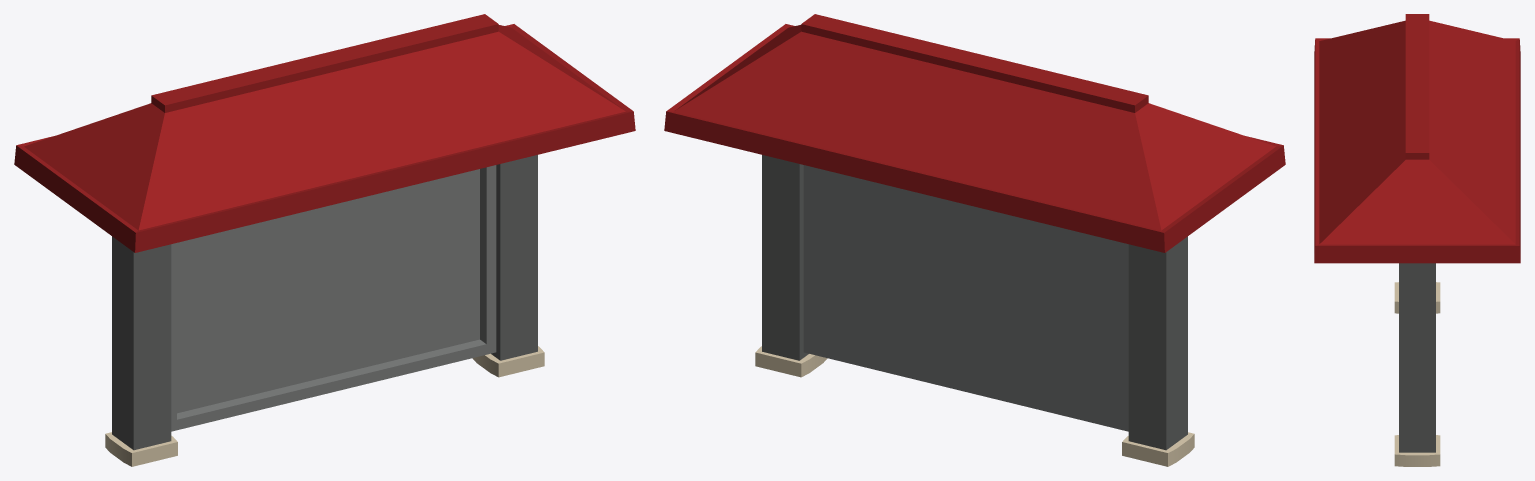
The model's file is WelcomeBoardStructure.FBX.
3 renders of one model, left to right at view 1: azimuth 30°, elevation 25°; view 2: azimuth 150°, elevation 25°; view 3: azimuth 270°, elevation 25°, orthographic. The views are drawn at different scales.
Parts seen in each view (by area): view 1: Box005, Roof; view 2: Box005, Roof; view 3: Roof, Box005.
Part boxes in pixels (x1=…): Box005: x1=105, y1=155, x2=544, y2=466; Roof: x1=14, y1=14, x2=635, y2=252; Box005: x1=755, y1=155, x2=1194, y2=466; Roof: x1=664, y1=14, x2=1285, y2=252; Roof: x1=1314, y1=14, x2=1520, y2=263; Box005: x1=1394, y1=263, x2=1440, y2=466.
Size of the model in its own units: 210 by 139 by 87.75.
